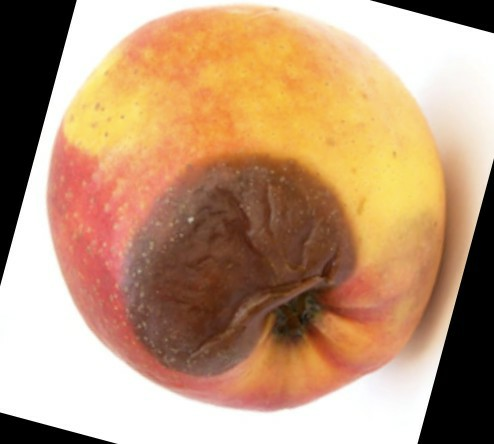rotten_apple: (46, 6, 445, 413)
